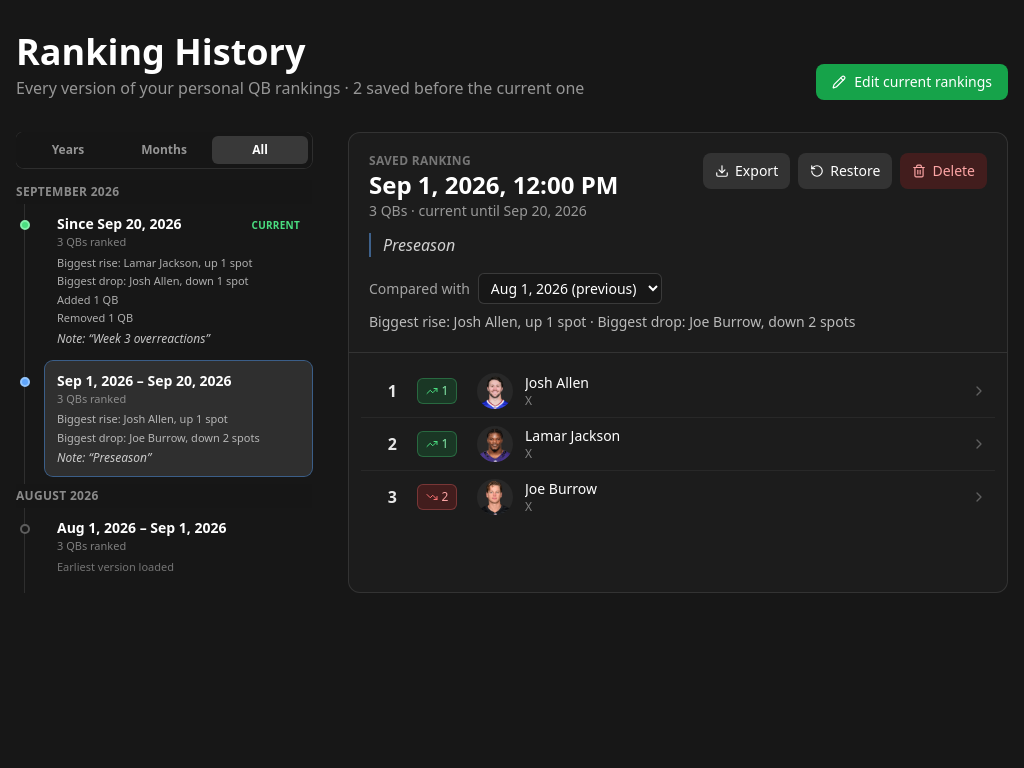
Test: ranking history page › deletes nothing when the dialog is cancelled
The image size is (1024, 768).
Step 1. Click the button "Delete" → (944, 171), box [900,153,987,189]
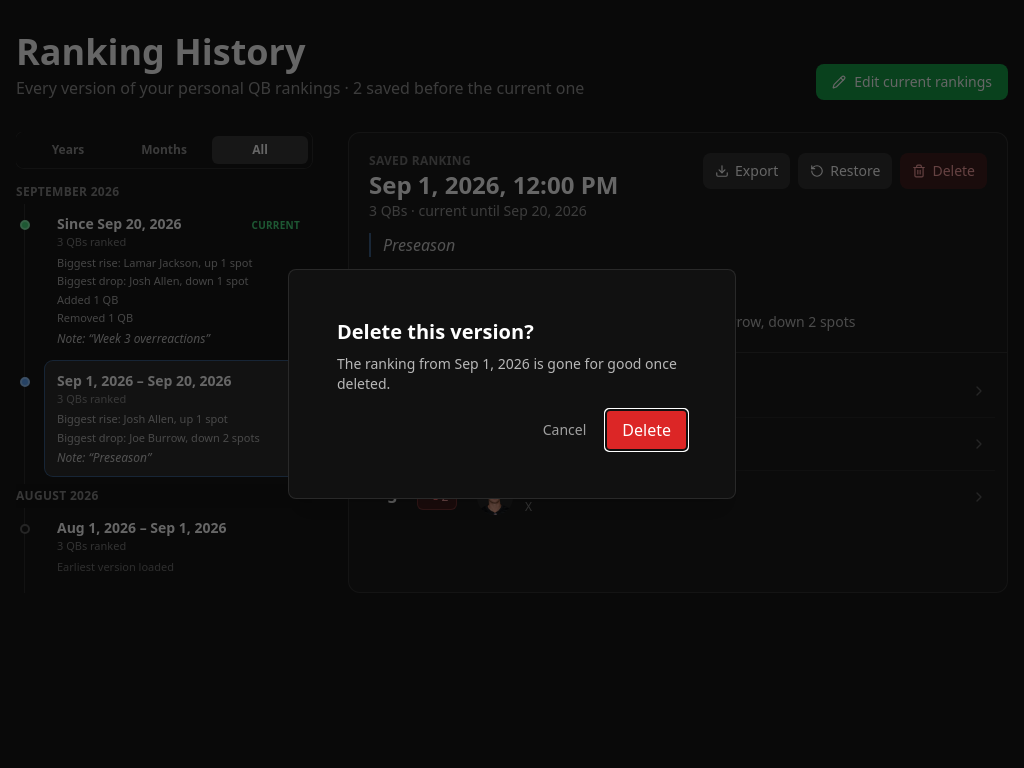
Expected: the heading "Delete this version?" is shown, [337,318,534,345]
Step 2. Click the button "Cancel" → (565, 430), box [531,410,598,450]
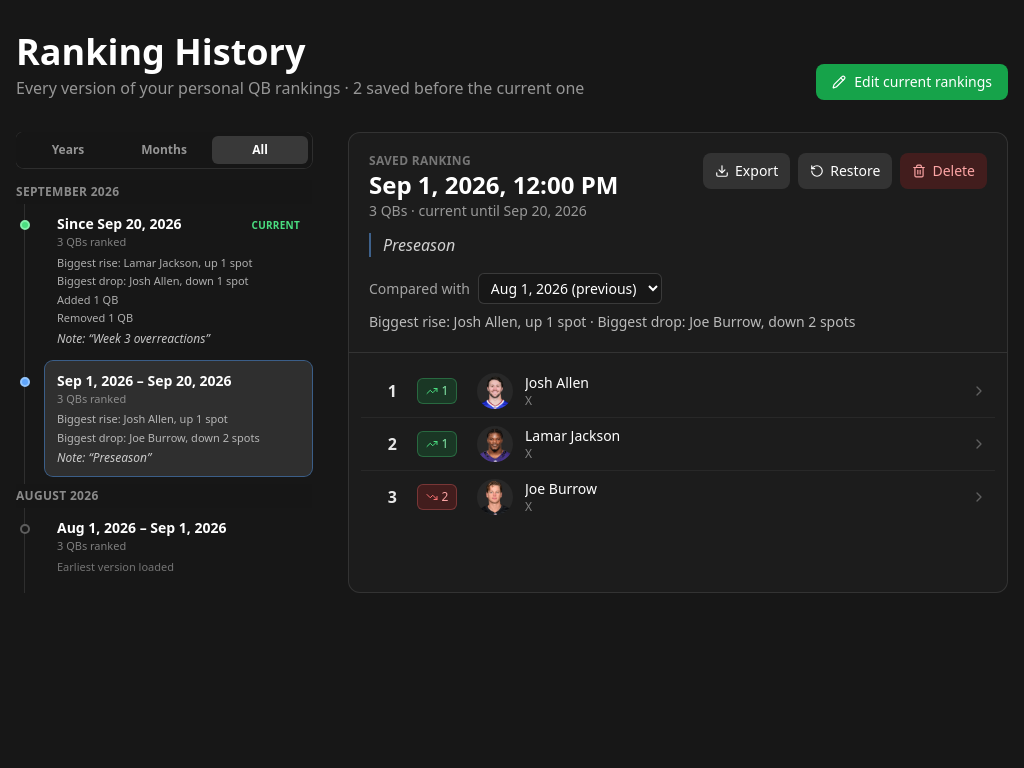
Expected: the dialog is gone
